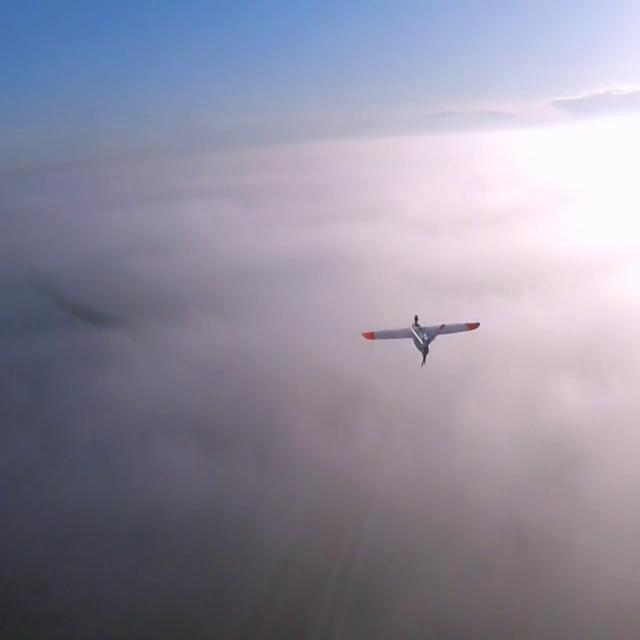iha: (392, 309, 450, 367)
